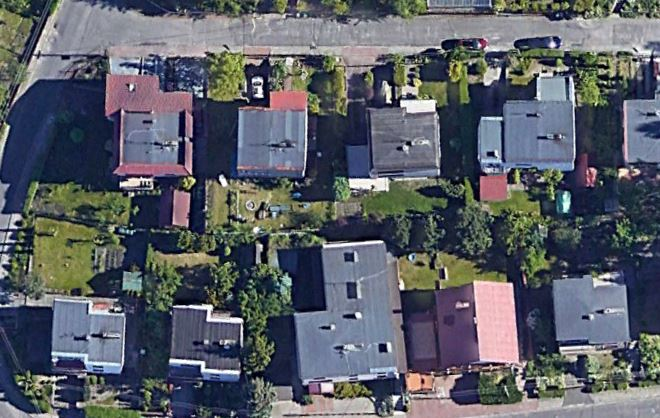family house: (289, 232, 398, 390), (101, 69, 201, 194), (408, 276, 523, 378), (475, 70, 581, 180), (229, 82, 312, 183), (546, 268, 639, 357), (363, 95, 442, 193), (45, 294, 130, 379), (168, 297, 246, 387)
